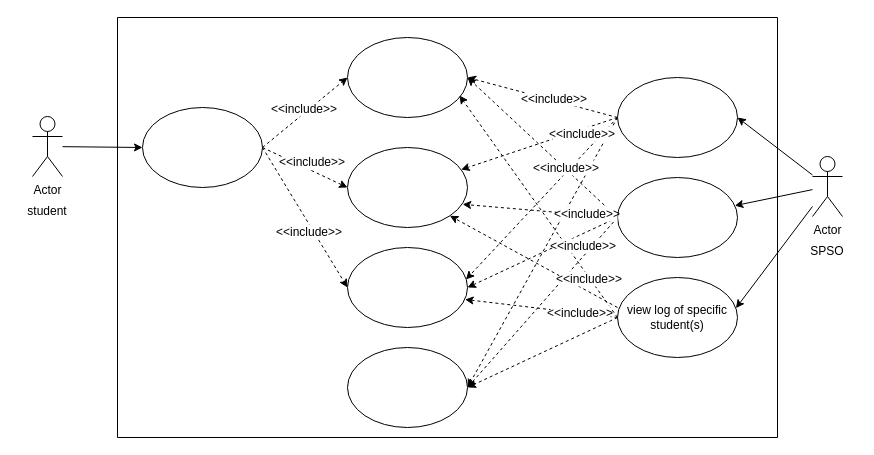
This 874x455 diagram has some shape labels left out. Each missing label, with the centre of its shape:
Authenticate user: the point at 407,187
Retrieve log from database: the point at 407,287
Sort the query result: the point at 407,387
validate input time range: the point at 407,77
view log of all students: the point at 677,217
view log of printer(s): the point at 677,117
view personal log: the point at 202,147
